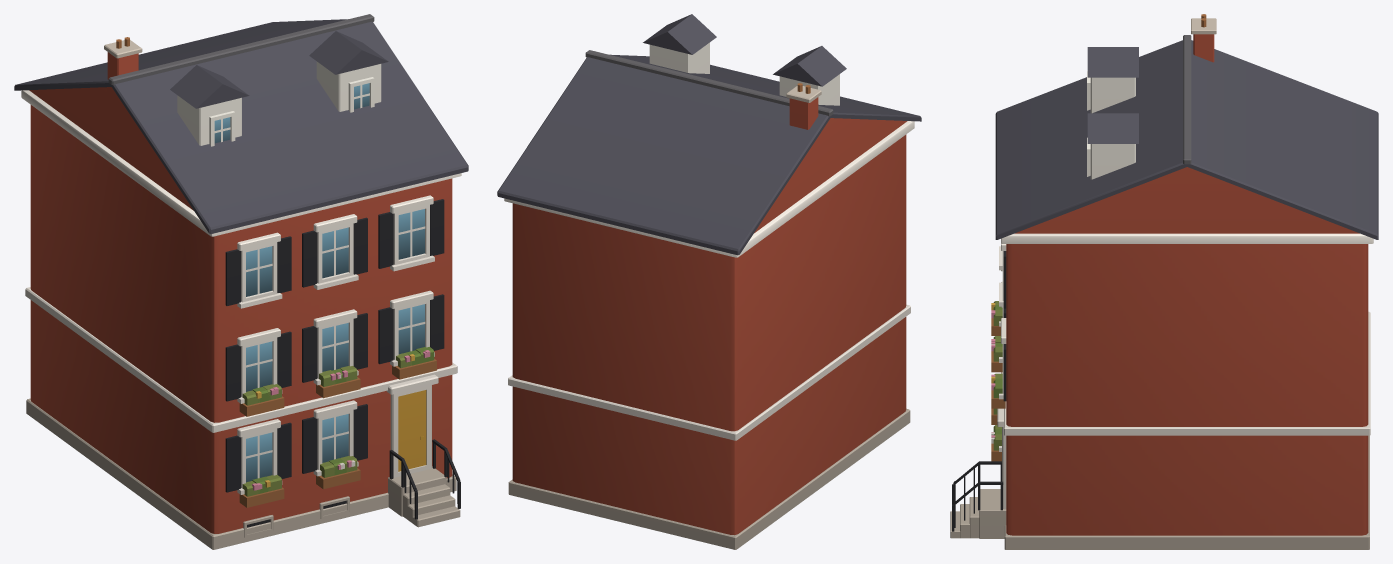
Rendered from lane_w0.glb.
3 renders of one model, left to right at view 1: azimuth 30°, elevation 25°; view 2: azimuth 150°, elevation 25°; view 3: azimuth 270°, elevation 25°, orthographic. The views are drawn at different scales.
Visible parts, largest first — view 1: lane_w0; view 2: lane_w0; view 3: lane_w0.
Part boxes in pixels (box(x1,y1,x2,y2)): lane_w0: box(14, 14, 468, 549); lane_w0: box(497, 14, 921, 549); lane_w0: box(950, 14, 1378, 549).
Size of the model in its own units: 9.8 by 15.45 by 14.21.
Materials: 1 (1 with a texture image).
